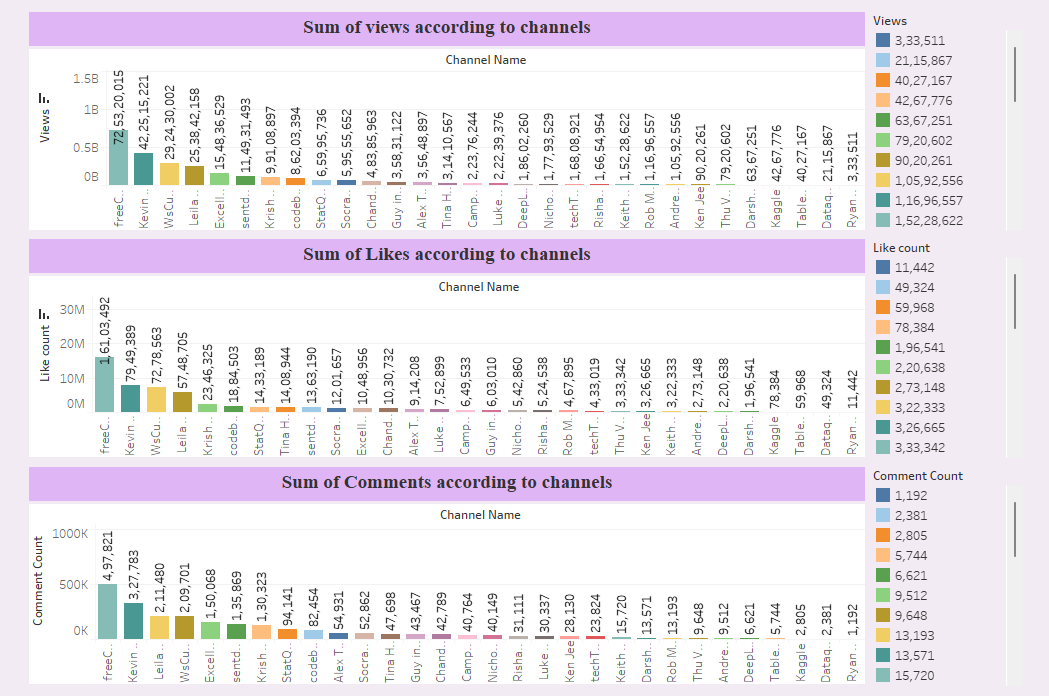

Layout of this report page (visuals, bound fields, positions):
{"tool":"tableau","page":{"name":"Dashboard 2","canvas":[1000,1000],"units":"permille","ordinal":1},"visuals":[{"type":"worksheet","title":"Sum of views ac. to channel","mark":"Automatic","rows":["Views"],"cols":["Channel_Name"],"box":[7.8,11.5,827.5,325.7]},{"type":"legend","title":"Sum of views ac. to channel","param":"[federated.0sgo8ef1tycyrm17zvssy0ikcol6].[sum:Views:ok]","box":[835.3,11.5,156.9,325.7]},{"type":"worksheet","title":"Sum of like ac. to channel ","mark":"Automatic","rows":["Like_count"],"cols":["Channel_Name"],"box":[7.8,337.2,827.5,325.7]},{"type":"legend","title":"Sum of like ac. to channel ","param":"[federated.0sgo8ef1tycyrm17zvssy0ikcol6].[sum:Like_count:ok]","box":[835.3,337.2,156.9,325.7]},{"type":"worksheet","title":"Sum of Comment ac. to channel","mark":"Automatic","rows":["Comment_Count"],"cols":["Channel_Name"],"box":[7.8,662.8,827.5,325.7]},{"type":"legend","title":"Sum of Comment ac. to channel","param":"[federated.0sgo8ef1tycyrm17zvssy0ikcol6].[sum:Comment_Count:ok]","box":[835.3,662.8,156.9,325.7]}]}

Visuals, with their boxes on the dashboard's canvas, which has no fixed pixel size, in thousandths of its width and height (x1, y1, x2, y2). These are canvas units, not pixel positions in the 1049x696 screenshot, which may show the page scaled, cropped or inside an application window:
"Sum of views ac. to channel" worksheet: BBox(8, 12, 835, 337)
"Sum of views ac. to channel" legend: BBox(835, 12, 992, 337)
"Sum of like ac. to channel " worksheet: BBox(8, 337, 835, 663)
"Sum of like ac. to channel " legend: BBox(835, 337, 992, 663)
"Sum of Comment ac. to channel" worksheet: BBox(8, 663, 835, 988)
"Sum of Comment ac. to channel" legend: BBox(835, 663, 992, 988)
